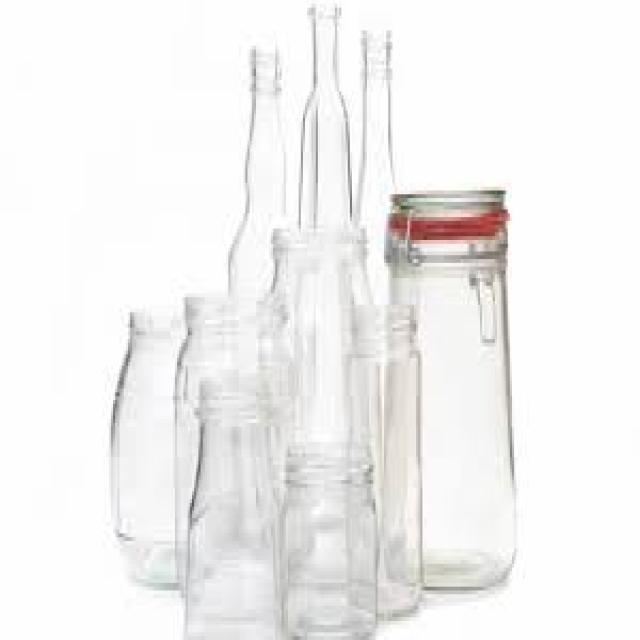glass: (382, 191, 512, 587), (173, 290, 292, 598), (184, 377, 282, 636), (344, 301, 421, 617), (269, 225, 373, 446), (277, 442, 378, 636), (107, 309, 177, 549), (226, 38, 286, 290), (296, 4, 350, 225), (356, 27, 395, 305), (128, 537, 190, 591)
